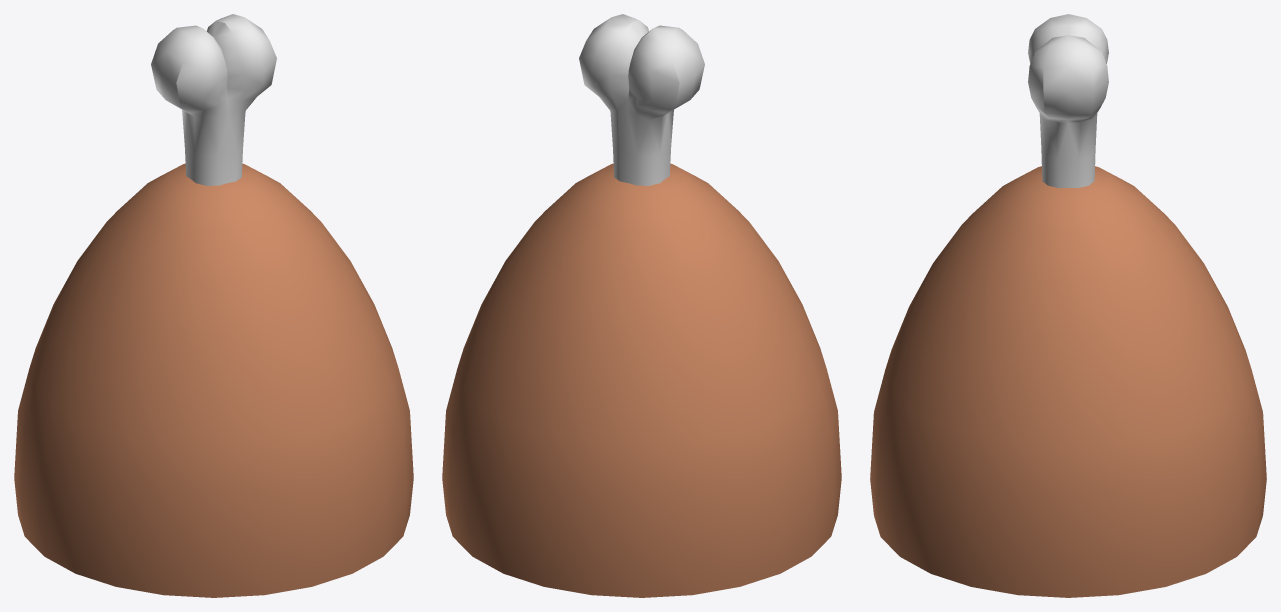
Rendered from hamLeg.gltf.glb.
The picture shows the model from 3 angles, left to right: view 1: azimuth 30°, elevation 25°; view 2: azimuth 150°, elevation 25°; view 3: azimuth 270°, elevation 25°; orthographic projection.
Visible parts, largest first — view 1: hamLeg; view 2: hamLeg; view 3: hamLeg.
Boxes of the visible parts, box(x1,y1,x2,y2) form: hamLeg: box(14, 14, 413, 597); hamLeg: box(442, 14, 841, 597); hamLeg: box(870, 14, 1266, 597).
Size of the model in its own units: 0.5825 by 0.8545 by 0.5825.
